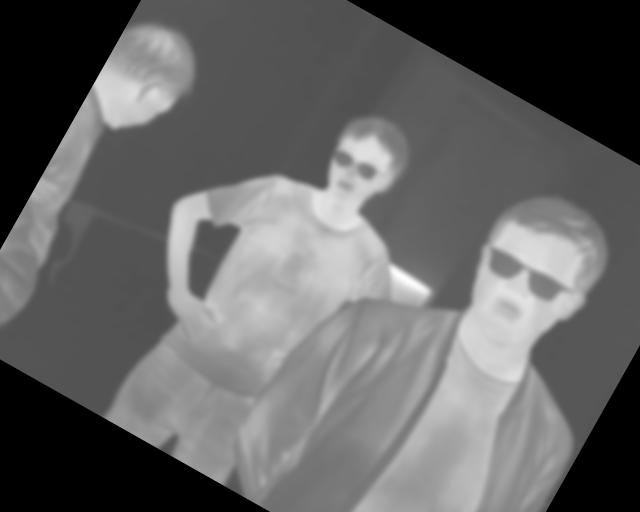face: (443, 173, 626, 373), (310, 101, 422, 221)
